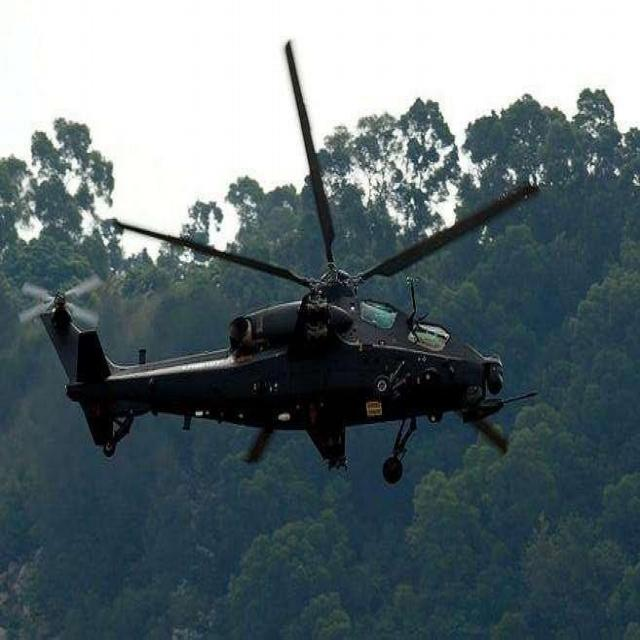MIL_HELO: (34, 38, 553, 502)
